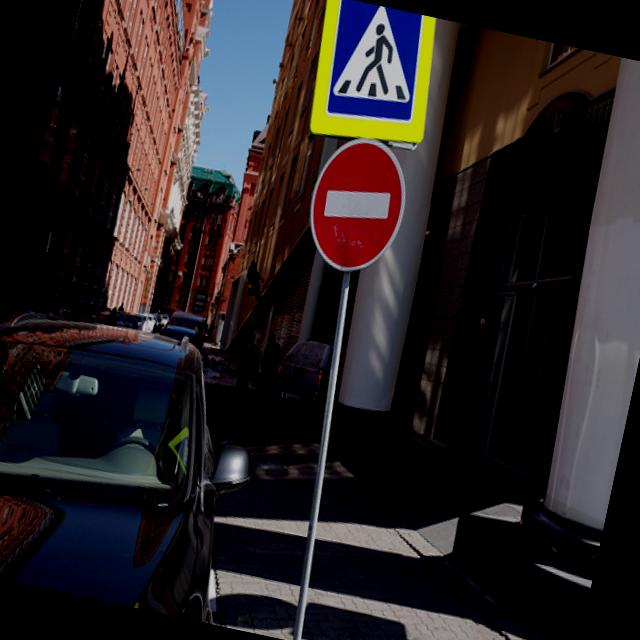Vehicle: (0, 299, 274, 625), (267, 333, 348, 424), (22, 300, 74, 328), (154, 321, 205, 348), (132, 311, 156, 334), (128, 313, 144, 330)
